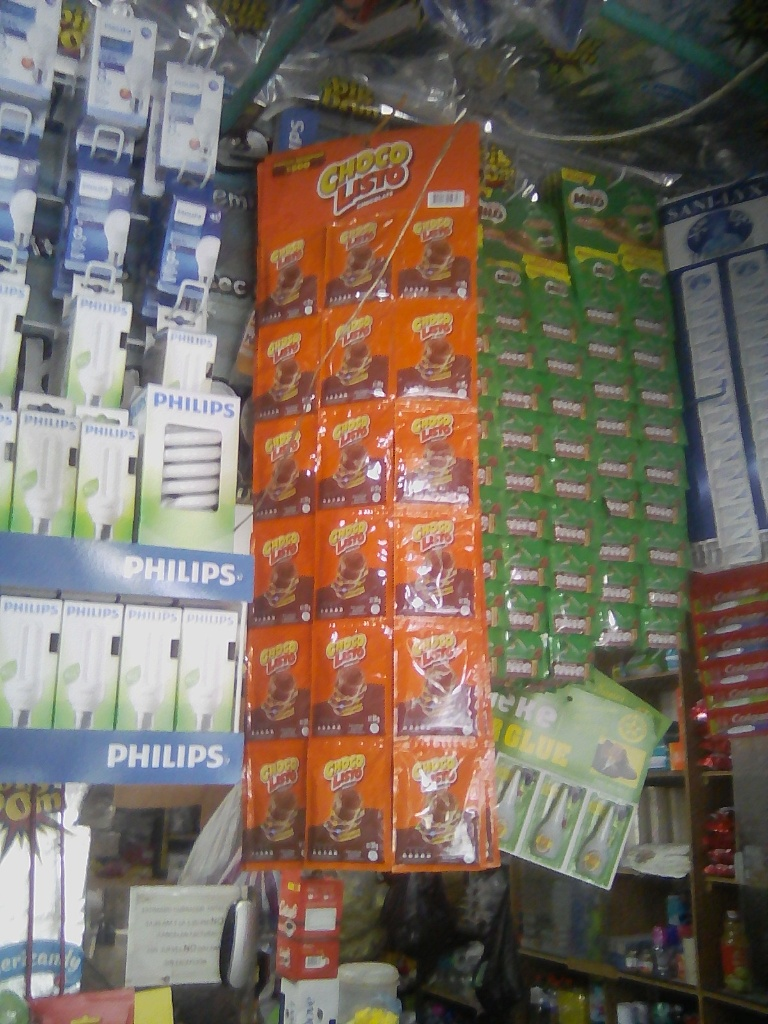COL0170103SOB02000: (251, 228, 327, 315)
